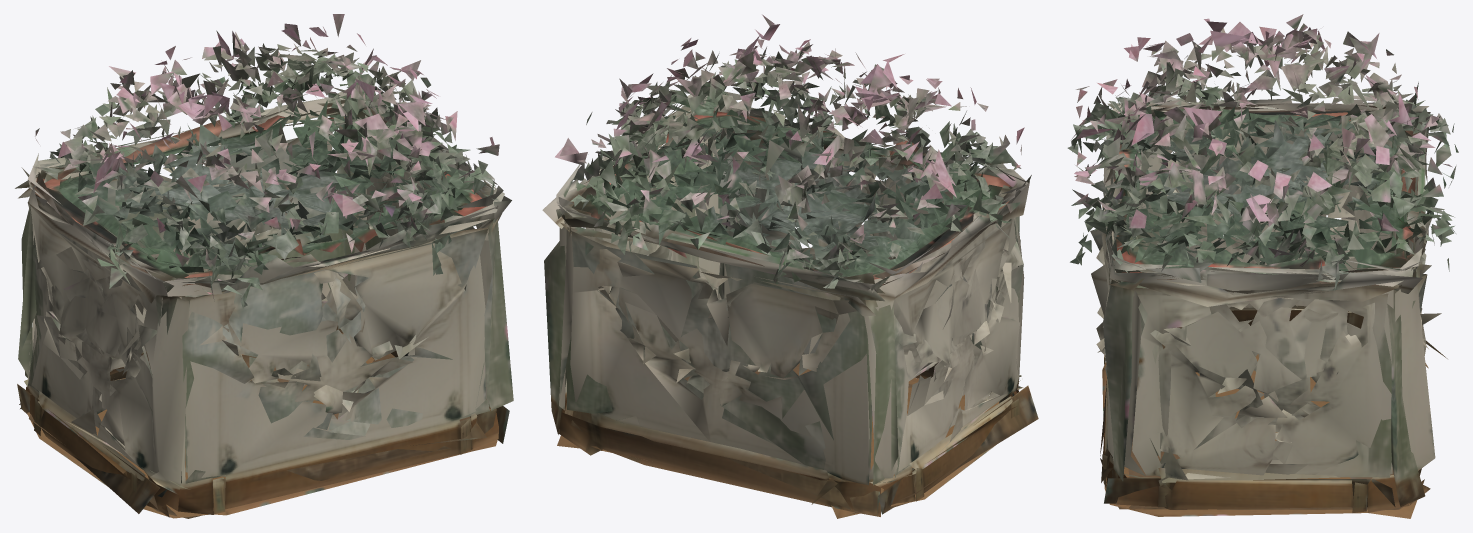
File: unified--detail--planter.glb
3 renders of one model, left to right at view 1: azimuth 30°, elevation 25°; view 2: azimuth 150°, elevation 25°; view 3: azimuth 270°, elevation 25°, orthographic. The views are drawn at different scales.
Visible parts, largest first — view 1: planter-1; view 2: planter-1; view 3: planter-1.
Boxes of the visible parts, x1=… form: planter-1: x1=15, y1=14, x2=513, y2=518; planter-1: x1=542, y1=14, x2=1038, y2=518; planter-1: x1=1067, y1=14, x2=1458, y2=518.
Bounding box in the file's own units: 1.23 × 1.15 × 1.07.
1 material, 1 textured.
